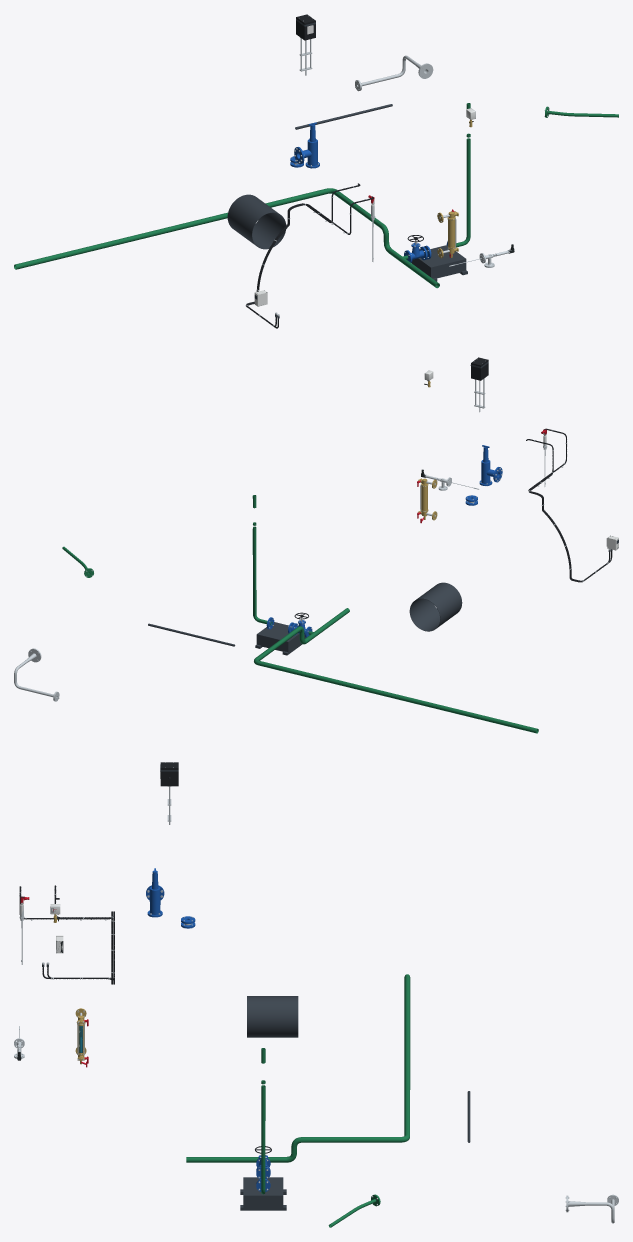
3 views of the same model, one above another, from view 1: azimuth 30°, elevation 25°; view 2: azimuth 150°, elevation 25°; view 3: azimuth 270°, elevation 25° (orthographic). The views are drawn at different scales.
Visible parts, largest first — view 1: suction_common / green, flue_spacer / dark, pump_branch_2 / dark, pump_branch_2 / green, safety_1 / blue, fv_to_trap_gap / steel, sight_glasses_2 / sight_glasses_2_0.npz, wiring_lp200 / black, wiring_high_level / black; view 2: suction_common / green, flue_spacer / dark, pump_branch_2 / dark, pump_branch_2 / green; view 3: suction_common / green, flue_spacer / dark, pump_branch_2 / dark, pump_branch_2 / green.
Part boxes in pixels (x1,y1,x2,y2): suction_common / green: (14,188,439,288); flue_spacer / dark: (227,194,286,249); pump_branch_2 / dark: (412,245,467,281); pump_branch_2 / green: (402,103,470,259); safety_1 / blue: (294,122,319,168); fv_to_trap_gap / steel: (355,55,433,91); sight_glasses_2 / sight_glasses_2_0.npz: (437,209,458,258); wiring_lp200 / black: (247,196,373,328); wiring_high_level / black: (246,183,360,326); suction_common / green: (254,608,538,733); flue_spacer / dark: (409,582,462,631); pump_branch_2 / dark: (255,622,305,655); pump_branch_2 / green: (252,495,313,634); suction_common / green: (186,974,410,1162); flue_spacer / dark: (247,996,298,1037); pump_branch_2 / dark: (240,1177,286,1210); pump_branch_2 / green: (261,1048,265,1194).
Size of the model in its own units: 6.71 by 3.7 by 5.88.
